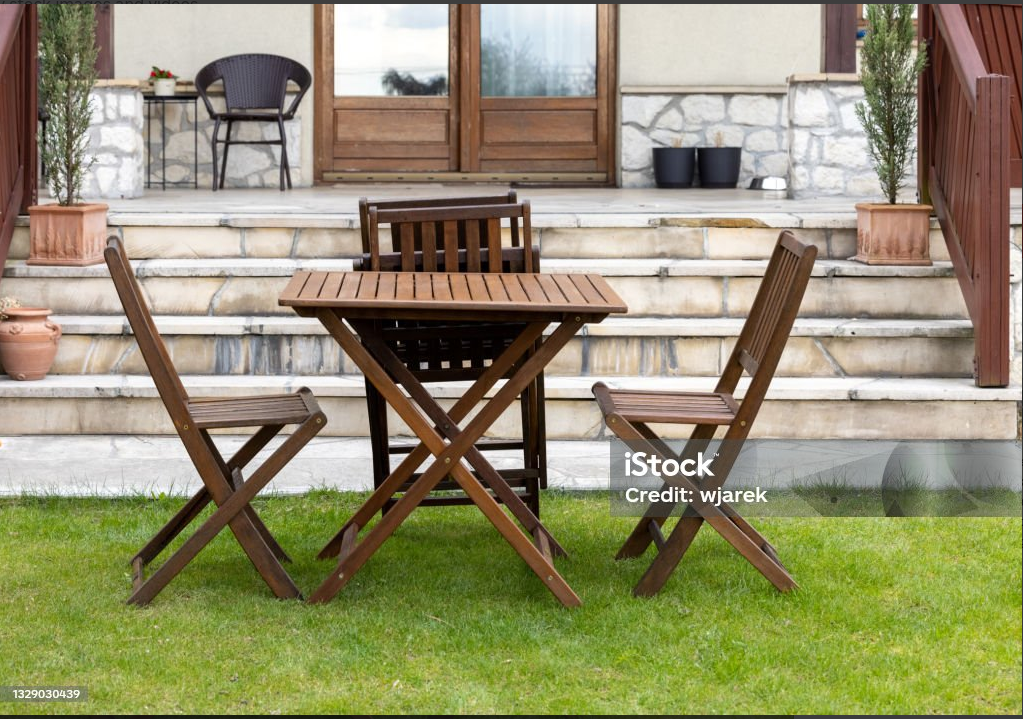obstacle: (277, 260, 629, 615), (100, 230, 332, 606), (593, 225, 817, 602), (17, 4, 113, 273), (850, 9, 942, 273), (189, 49, 313, 191)
